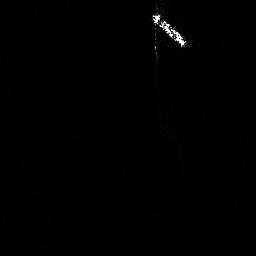ship: (150, 9, 188, 49)
